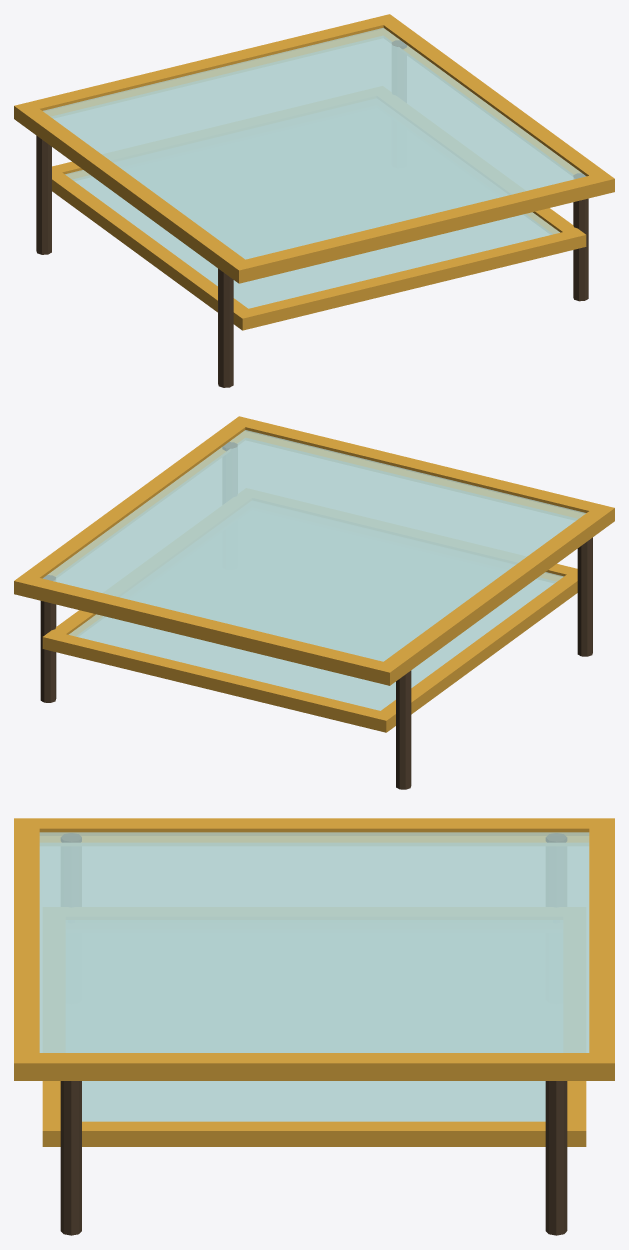
File: coffeeTable_v1.fbx
3 renders of one model, top to bottom at view 1: azimuth 30°, elevation 25°; view 2: azimuth 150°, elevation 25°; view 3: azimuth 270°, elevation 25°, orthographic. The views are drawn at different scales.
Parts seen in each view (by area): view 1: tableSurface, tableBelow, leg1, leg2, leg3; view 2: tableSurface, tableBelow, leg1, leg2, leg4; view 3: tableSurface, tableBelow, leg4, leg3.
Part boxes in pixels (x1=…): tableSurface: x1=14, y1=14, x2=614, y2=283; tableBelow: x1=52, y1=161, x2=586, y2=330; leg1: x1=36, y1=135, x2=51, y2=254; leg2: x1=218, y1=268, x2=233, y2=387; leg3: x1=573, y1=173, x2=588, y2=301; tableSurface: x1=14, y1=416, x2=614, y2=685; tableBelow: x1=42, y1=564, x2=577, y2=732; leg1: x1=396, y1=670, x2=411, y2=789; leg2: x1=577, y1=537, x2=592, y2=656; leg4: x1=40, y1=575, x2=56, y2=702; tableSurface: x1=14, y1=818, x2=614, y2=1080; tableBelow: x1=42, y1=1081, x2=586, y2=1146; leg4: x1=545, y1=1081, x2=567, y2=1235; leg3: x1=60, y1=1081, x2=81, y2=1235.
Bounding box in the file's own units: 203 × 68.16 × 211.
